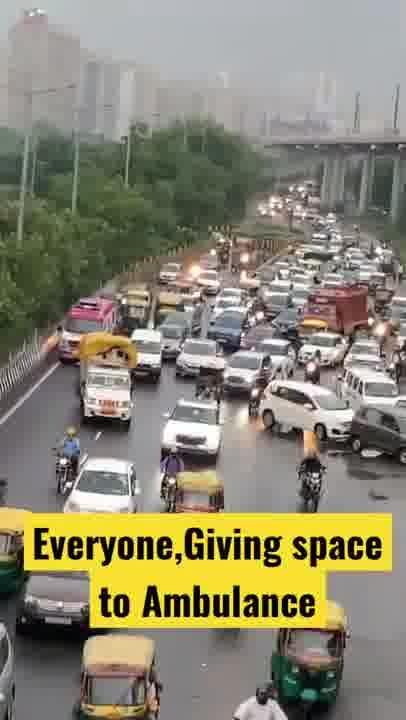AMBULANCE: (57, 297, 119, 361)
